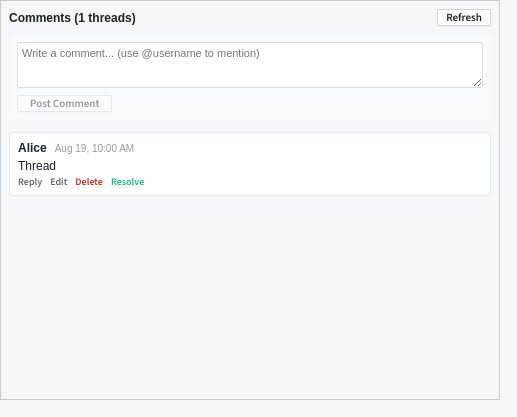
Test: CommentsWidget › shows reply button and reply form on click
This screenshot has width=517, height=417.
Click the button "Reply" at [30, 182], box 18,177 -> 42,187
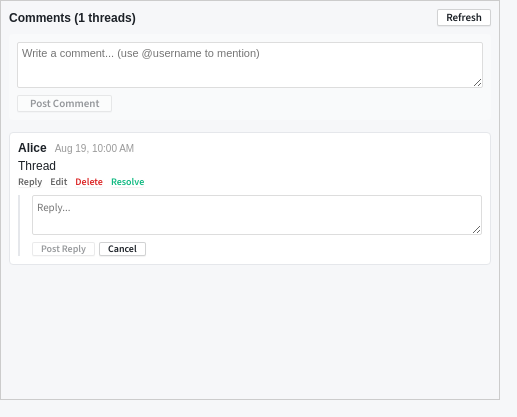
Result: the text box with placeholder "Reply..." is shown at 32,195 -> 482,235
